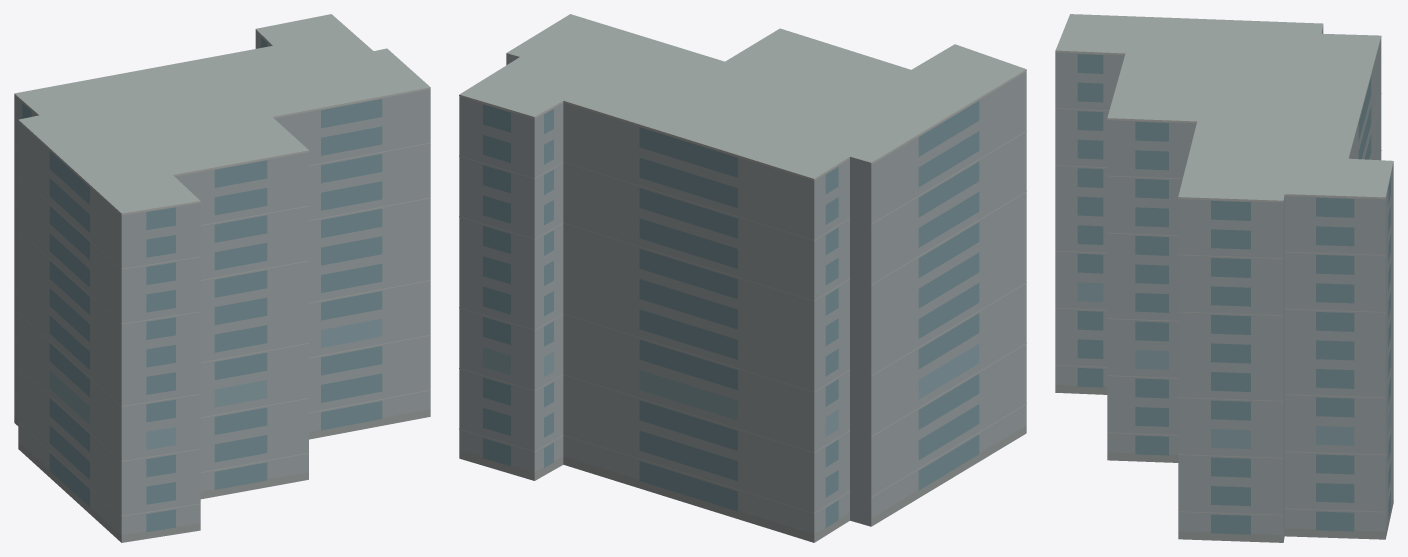
Rendered from residential-71686659-9f16-4eb0-bfe5-ef482d3fbb4f.glb.
3 views of the same model, side by side, from view 1: azimuth 30°, elevation 25°; view 2: azimuth 150°, elevation 25°; view 3: azimuth 270°, elevation 25° (orthographic). The views are drawn at different scales.
Visible parts, largest first — view 1: residential-71686659-9f16-4eb0-bfe5-ef482d3fbb4f.tmp; view 2: residential-71686659-9f16-4eb0-bfe5-ef482d3fbb4f.tmp; view 3: residential-71686659-9f16-4eb0-bfe5-ef482d3fbb4f.tmp.
Part boxes in pixels (x1=…): residential-71686659-9f16-4eb0-bfe5-ef482d3fbb4f.tmp: x1=14, y1=14, x2=430, y2=542; residential-71686659-9f16-4eb0-bfe5-ef482d3fbb4f.tmp: x1=459, y1=14, x2=1026, y2=542; residential-71686659-9f16-4eb0-bfe5-ef482d3fbb4f.tmp: x1=1055, y1=14, x2=1393, y2=542.
Size of the model in its own units: 52.68 by 45 by 40.31.
